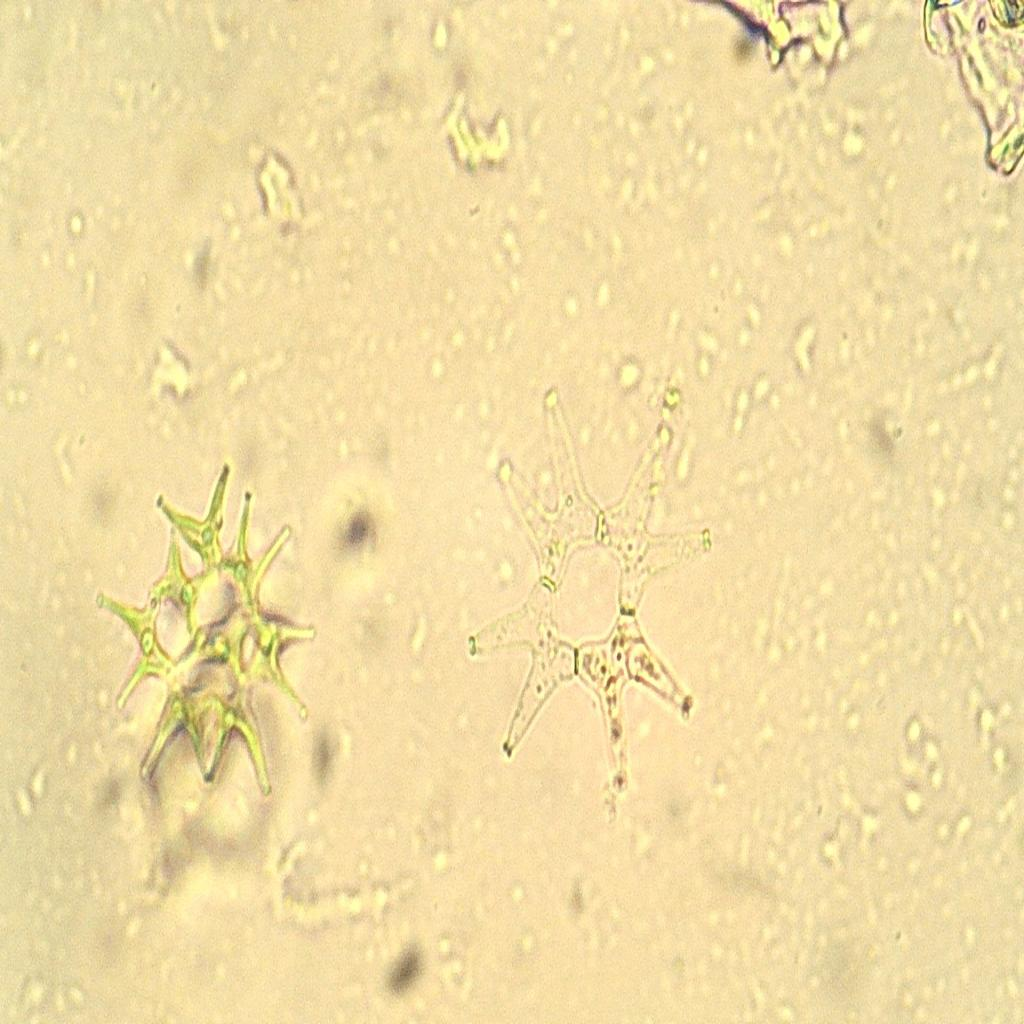Pediastrum_1F0: (448, 349, 726, 838)
